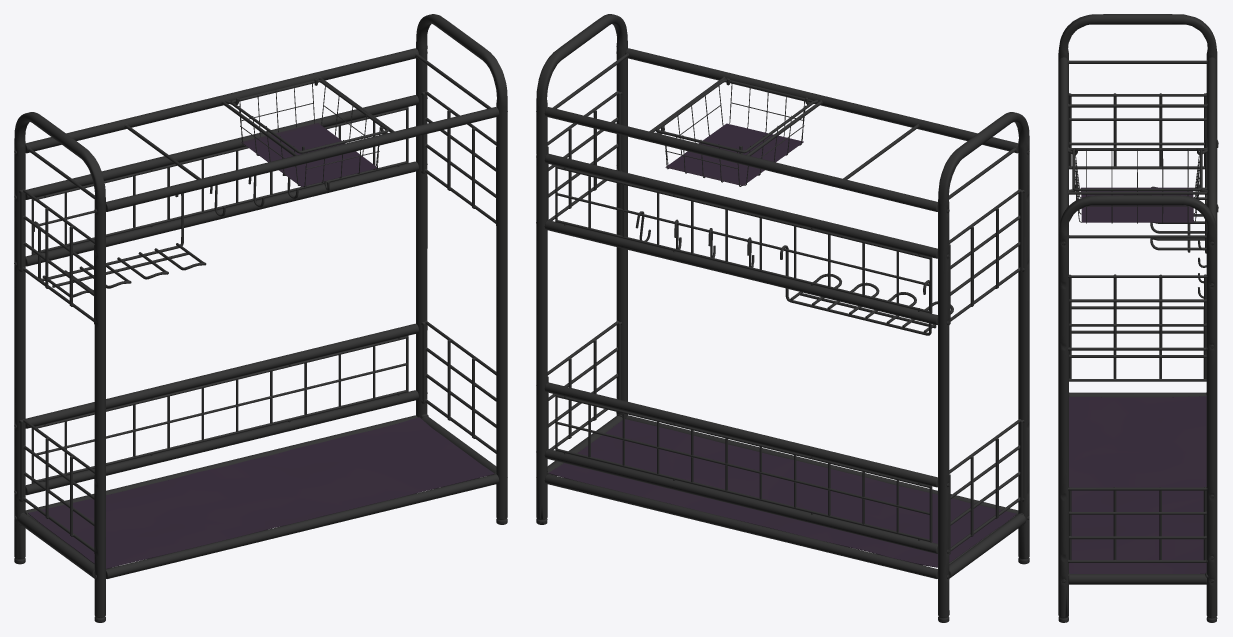
Rendered from abo-B07L96X7MN.glb.
3 renders of one model, left to right at view 1: azimuth 30°, elevation 25°; view 2: azimuth 150°, elevation 25°; view 3: azimuth 270°, elevation 25°, orthographic. The views are drawn at different scales.
Bounding box in the file's own units: 0.961 × 1.03 × 0.35.
Materials: 1 (1 with a texture image).
